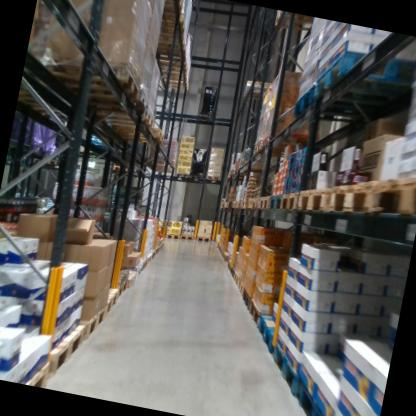pallet: (20, 48, 144, 129), (309, 40, 416, 120), (292, 80, 400, 137), (321, 160, 382, 229), (84, 82, 148, 137), (365, 164, 416, 229), (43, 317, 91, 380), (261, 344, 307, 404), (69, 296, 112, 353), (286, 374, 342, 416), (292, 173, 335, 227), (150, 66, 195, 103), (129, 98, 163, 139), (250, 136, 301, 162), (251, 305, 278, 352), (23, 356, 56, 387), (260, 130, 306, 151), (277, 189, 305, 223), (148, 0, 190, 22), (95, 283, 122, 317), (142, 120, 171, 150), (107, 274, 129, 304), (234, 288, 252, 324), (266, 183, 284, 214), (245, 296, 262, 328), (121, 266, 139, 292), (224, 167, 249, 183), (257, 191, 271, 218), (195, 232, 214, 248), (226, 167, 249, 180), (162, 228, 180, 243), (230, 158, 247, 171), (227, 263, 240, 280), (178, 232, 195, 245), (235, 278, 245, 300), (188, 170, 206, 182), (230, 270, 241, 289), (204, 173, 223, 184), (249, 197, 261, 214), (173, 167, 189, 179), (154, 238, 166, 252), (142, 248, 152, 264), (226, 259, 236, 274), (246, 195, 255, 211), (138, 258, 148, 271), (154, 236, 164, 248), (146, 250, 155, 261), (229, 198, 236, 210), (152, 243, 159, 255), (242, 199, 250, 209), (218, 196, 226, 205), (154, 243, 161, 253), (238, 199, 243, 209), (235, 199, 240, 209), (229, 198, 234, 208), (226, 200, 230, 209)
